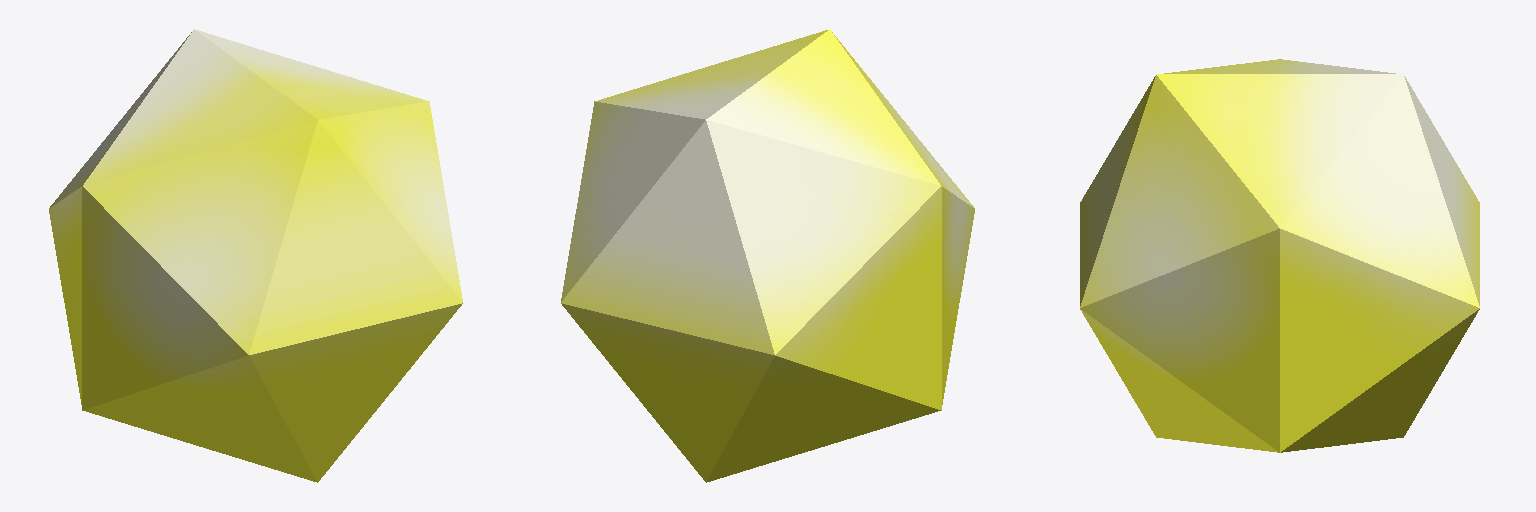
The picture shows the model from 3 angles: view 1: azimuth 30°, elevation 25°; view 2: azimuth 150°, elevation 25°; view 3: azimuth 270°, elevation 25°; orthographic projection.
Parts seen in each view (by area): view 1: milk_geo0:GeoSphere04; view 2: milk_geo0:GeoSphere04; view 3: milk_geo0:GeoSphere04.
Boxes of the visible parts, x1=… form: milk_geo0:GeoSphere04: x1=49, y1=29, x2=462, y2=482; milk_geo0:GeoSphere04: x1=561, y1=29, x2=974, y2=482; milk_geo0:GeoSphere04: x1=1080, y1=59, x2=1479, y2=452.
Bounding box in the file's own units: 182 × 182 × 182.
1 materials, 1 textured.